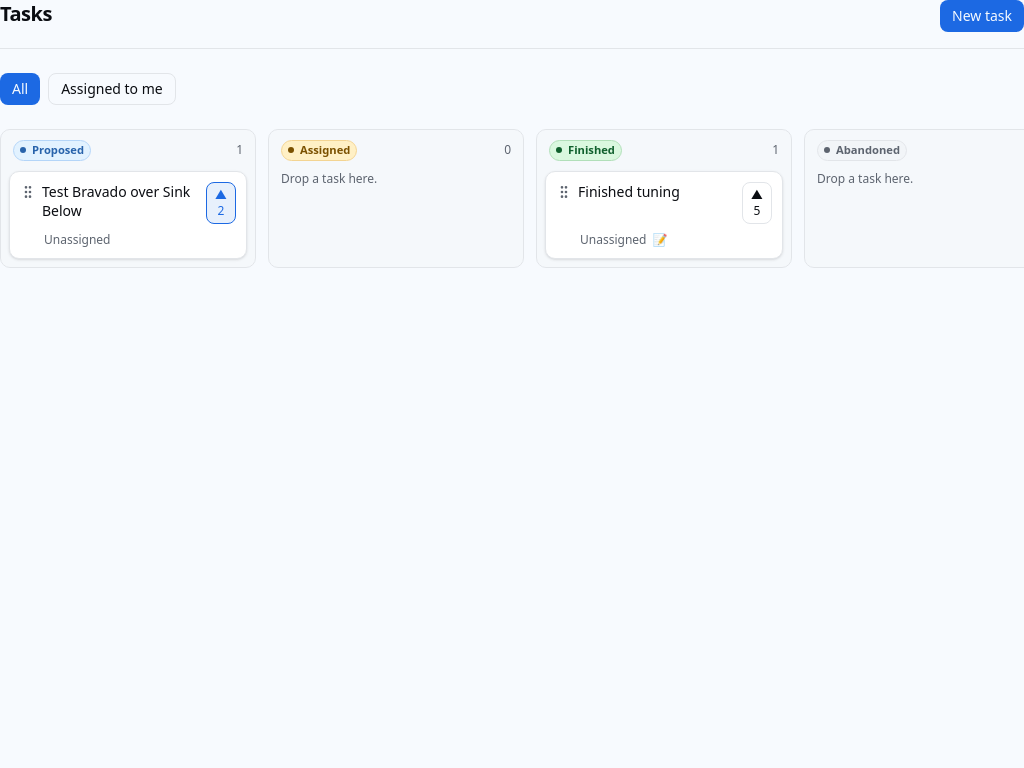
Test case: TasksPage › opens and closes a task's detail dialog (URL-driven)
Click the button with aria-label "Open task: Test Bravado over Sink Below" at (121, 201), box x1=42 y1=182 x2=200 y2=220
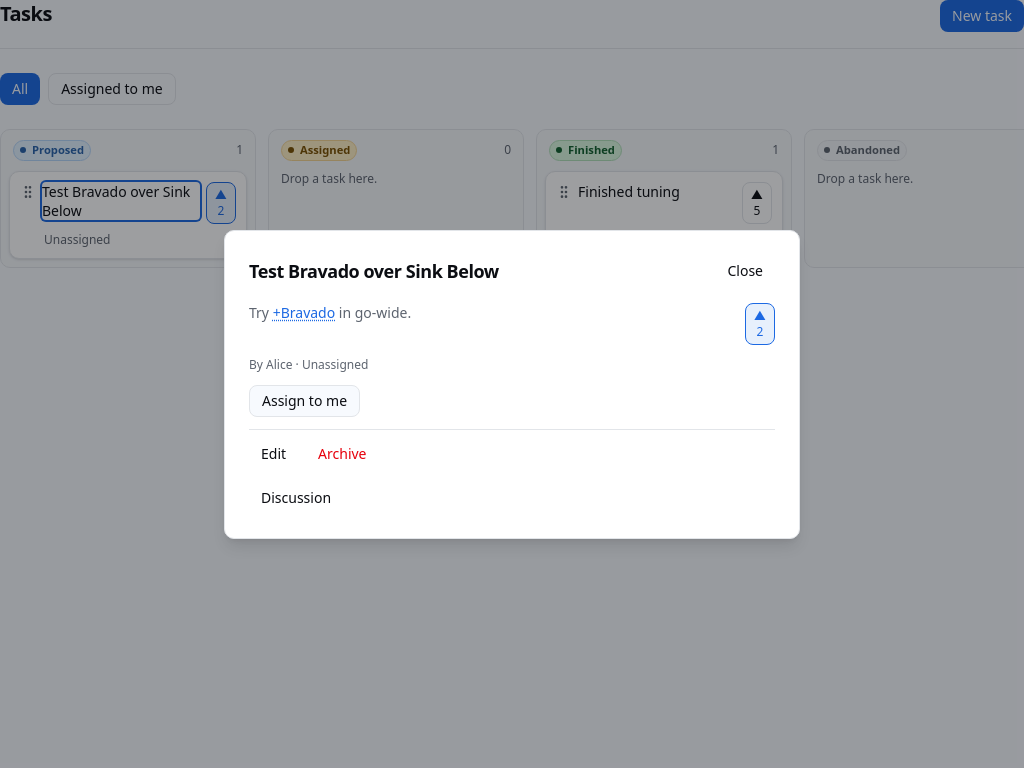
expect the button "+Bravado" is shown: met, box x1=273 y1=302 x2=335 y2=322
Click the button "Close" at (745, 270), box x1=716 y1=254 x2=775 y2=286
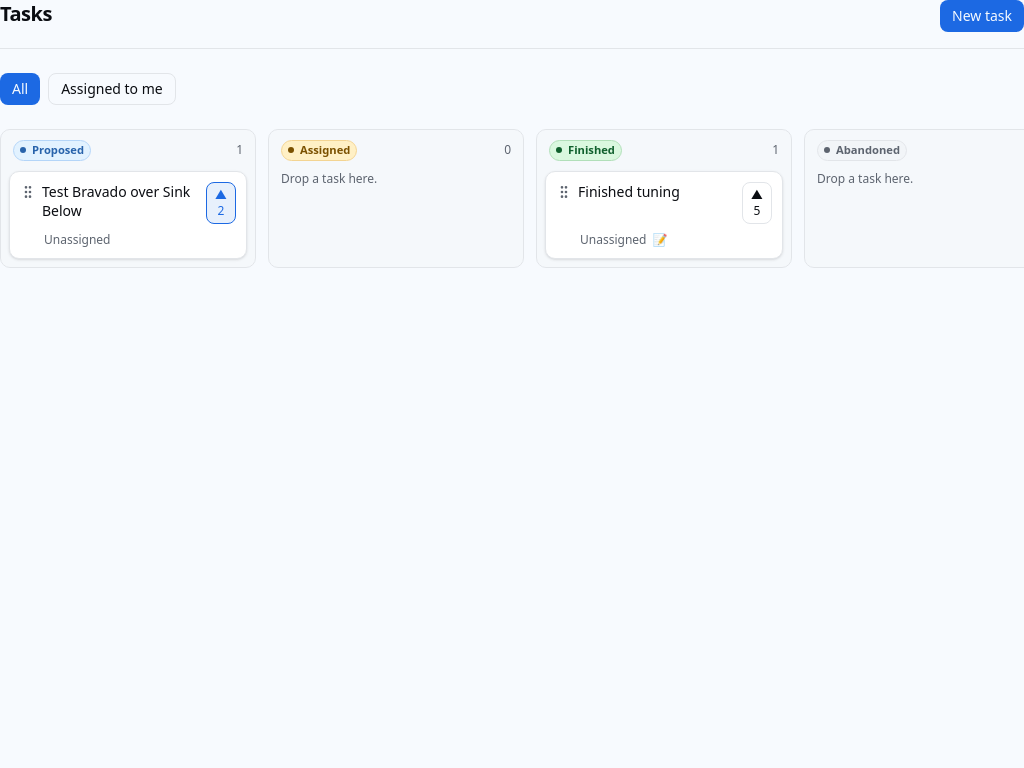
expect the dialog is gone: met
